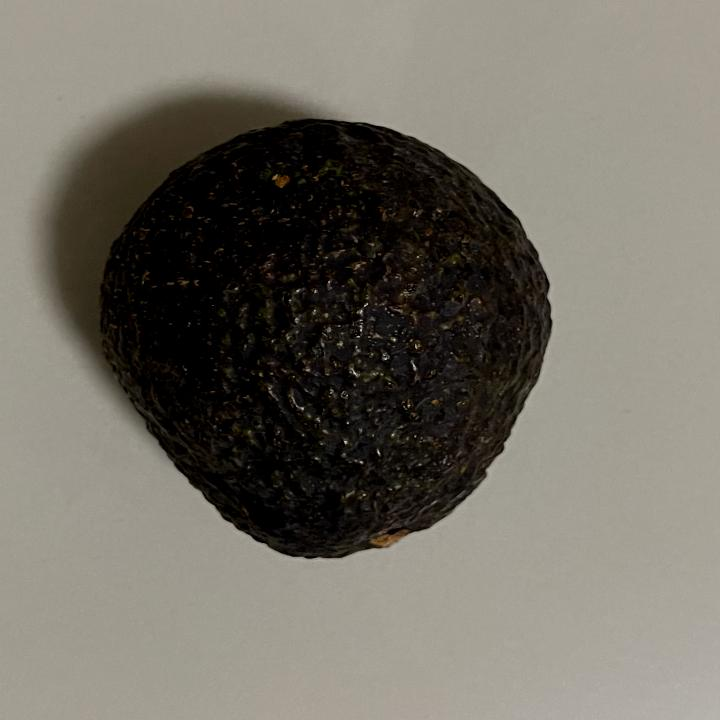Level2: (90, 114, 560, 566)
